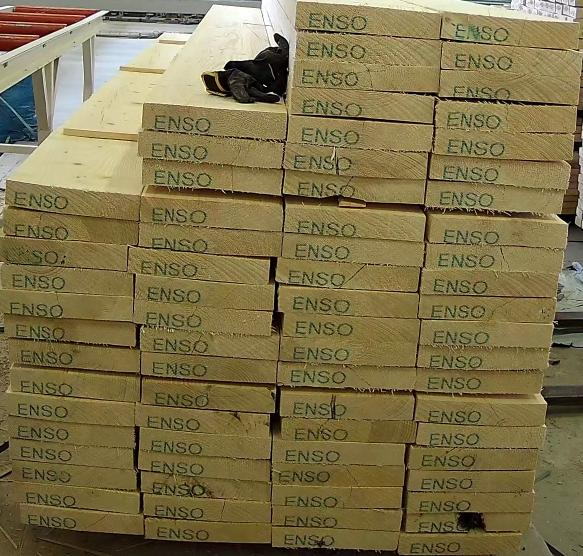Wood-Plank: (419, 1, 581, 48), (2, 177, 138, 220), (288, 115, 433, 154), (295, 0, 441, 38), (290, 86, 436, 124), (138, 130, 284, 168), (443, 41, 583, 80), (427, 211, 570, 248), (5, 388, 134, 428), (128, 248, 271, 284), (432, 126, 575, 162), (3, 206, 138, 244), (298, 30, 440, 66), (142, 104, 287, 139), (285, 143, 429, 178), (284, 204, 424, 240), (143, 160, 282, 196), (293, 58, 440, 92), (0, 234, 128, 272), (432, 156, 572, 190), (442, 70, 581, 104), (9, 366, 140, 402), (134, 302, 272, 336), (136, 276, 274, 310), (278, 285, 420, 318), (283, 172, 427, 204), (276, 260, 420, 292), (141, 380, 275, 414), (140, 327, 278, 360), (139, 224, 281, 256), (282, 234, 423, 266), (8, 340, 140, 374), (426, 182, 566, 214), (135, 405, 270, 438), (437, 100, 576, 132), (138, 197, 281, 228), (273, 433, 404, 466), (281, 390, 416, 422), (426, 243, 565, 274), (283, 313, 421, 344), (415, 396, 548, 428), (1, 264, 133, 296), (0, 290, 132, 322), (4, 316, 136, 348), (281, 337, 417, 368), (141, 354, 277, 384), (138, 451, 269, 482), (423, 269, 560, 298), (7, 417, 135, 448), (140, 430, 270, 460), (278, 362, 417, 390), (420, 296, 557, 324), (13, 484, 139, 514), (9, 440, 134, 470), (19, 506, 144, 536), (11, 462, 135, 492), (141, 474, 271, 502), (143, 496, 270, 524), (422, 322, 554, 348), (281, 419, 418, 444), (417, 424, 548, 450), (409, 446, 539, 471), (272, 527, 399, 552), (418, 346, 549, 370), (273, 508, 403, 532), (272, 486, 402, 510), (145, 520, 271, 544), (418, 370, 544, 394), (408, 471, 536, 494), (273, 466, 404, 488), (399, 534, 522, 556), (408, 493, 534, 514), (407, 514, 533, 534)
